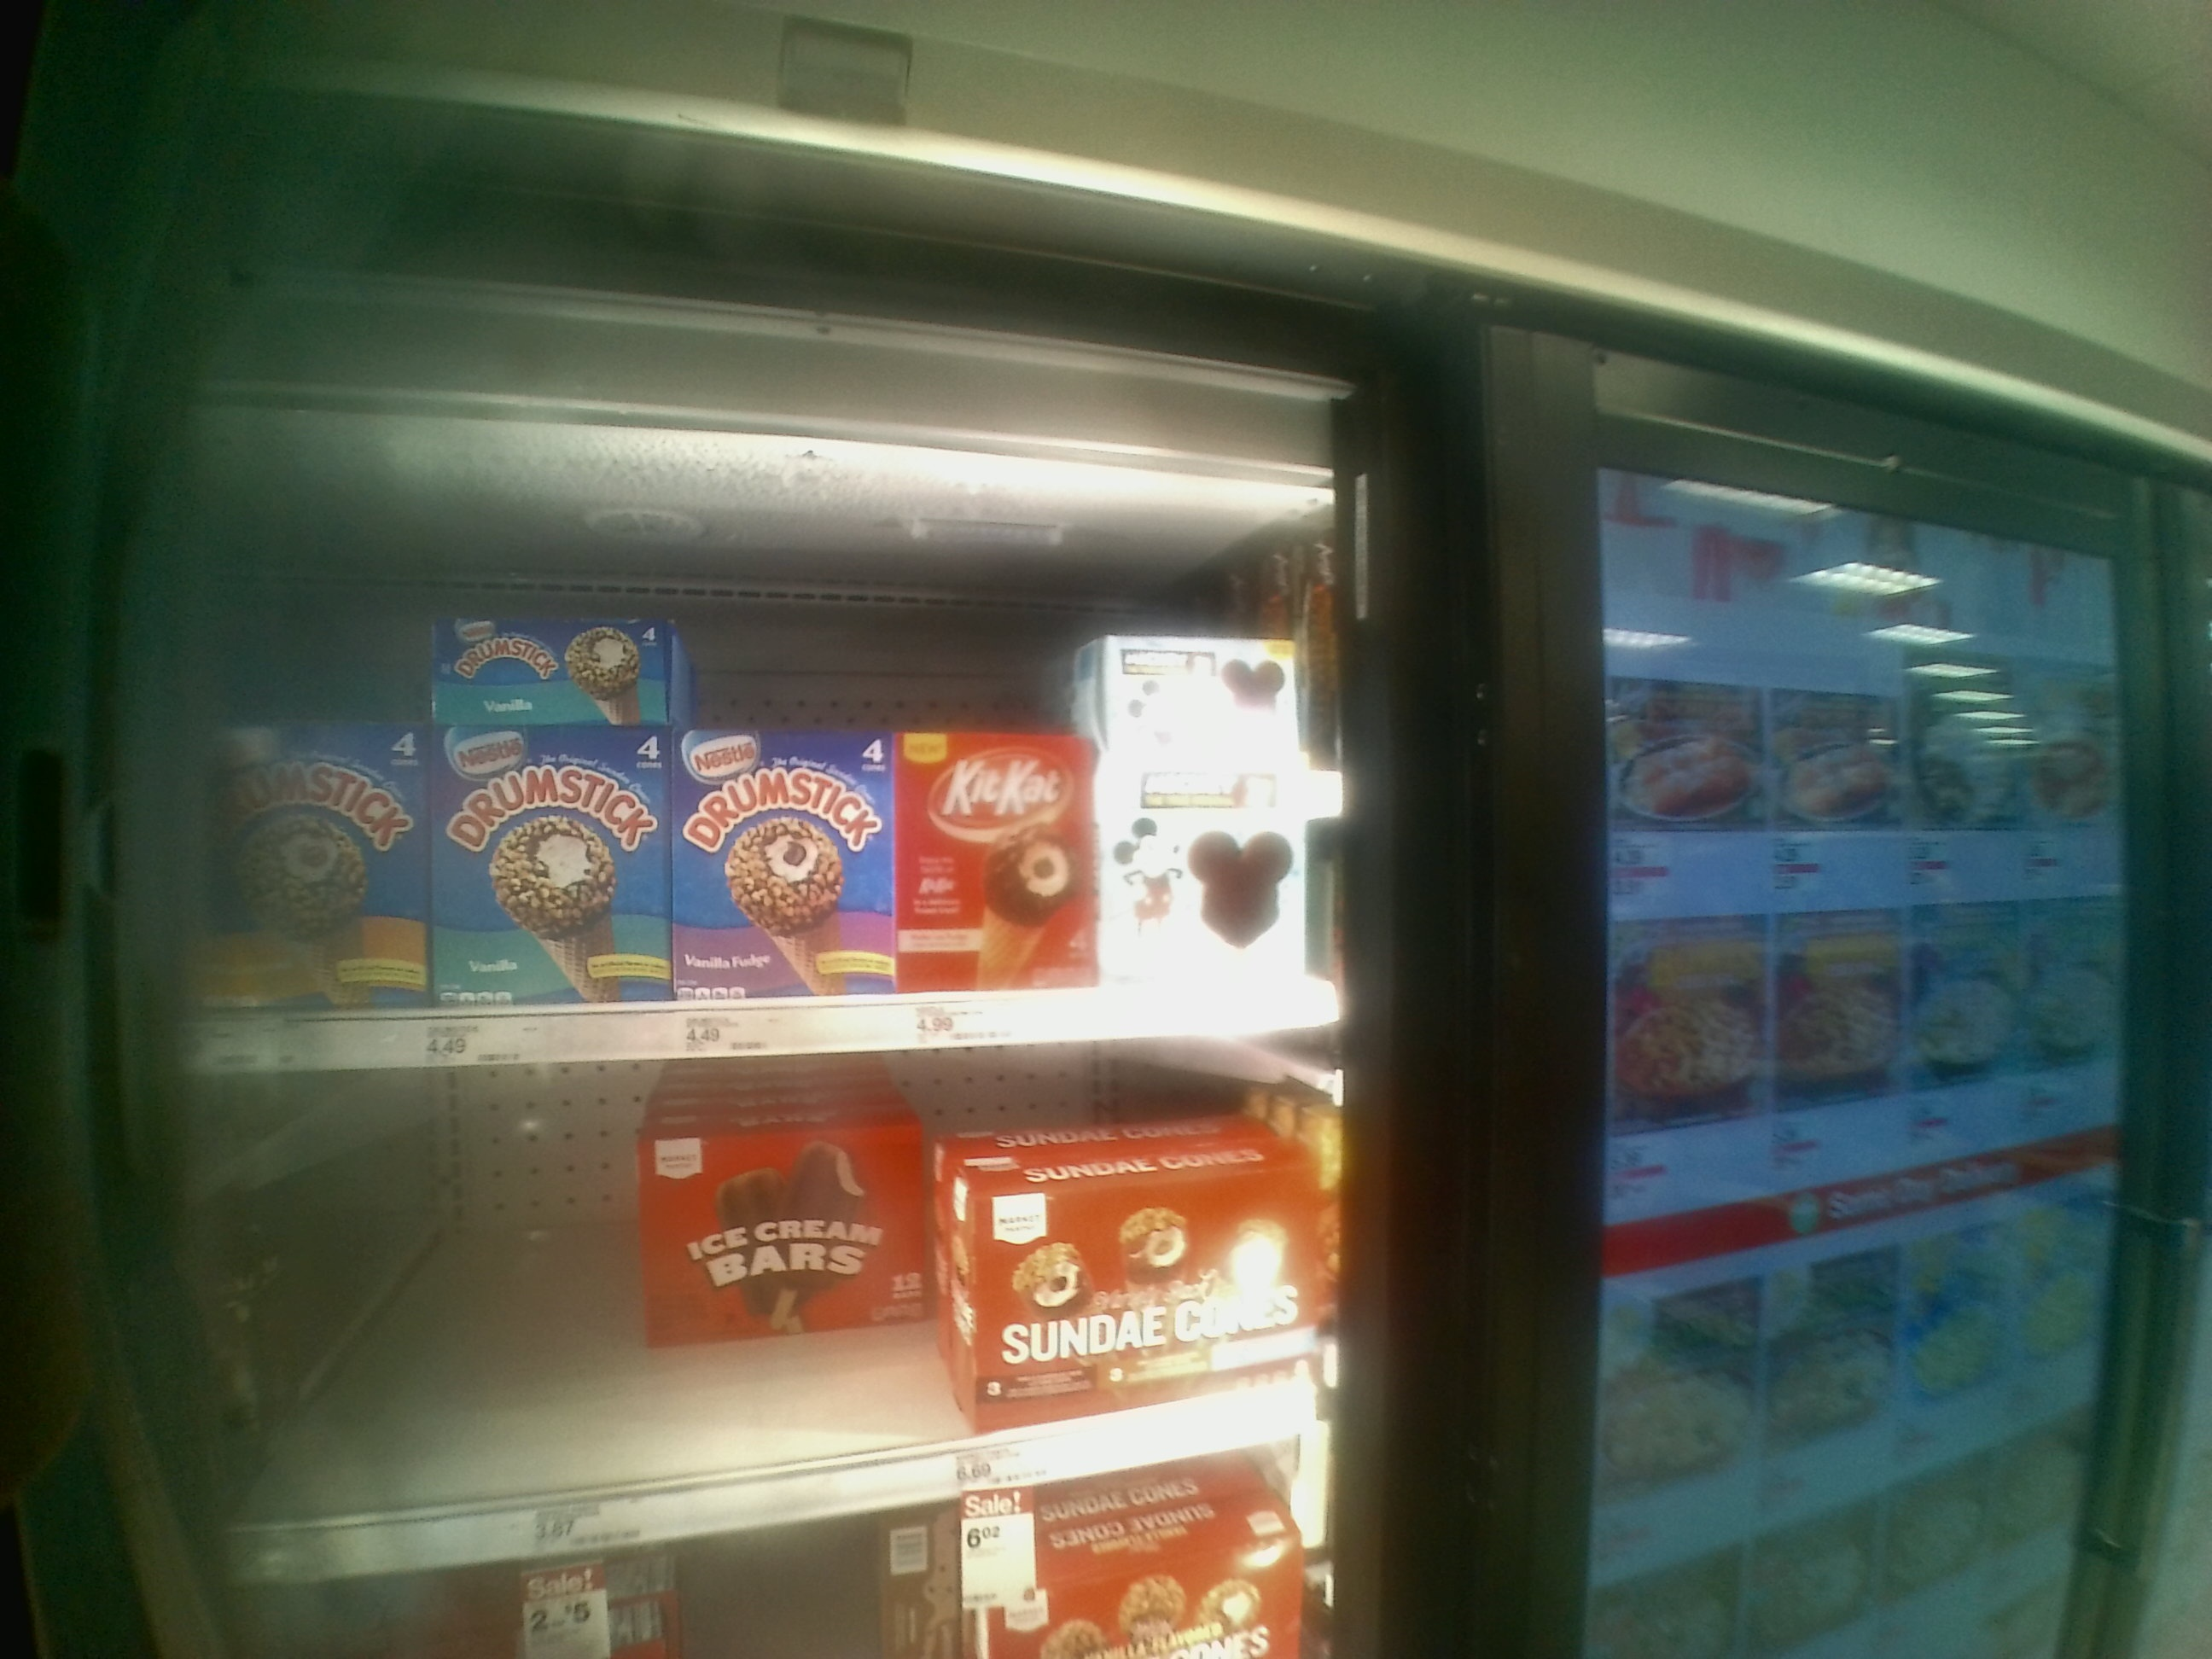shelf: (188, 1028, 1350, 1588), (183, 552, 1338, 1068)
